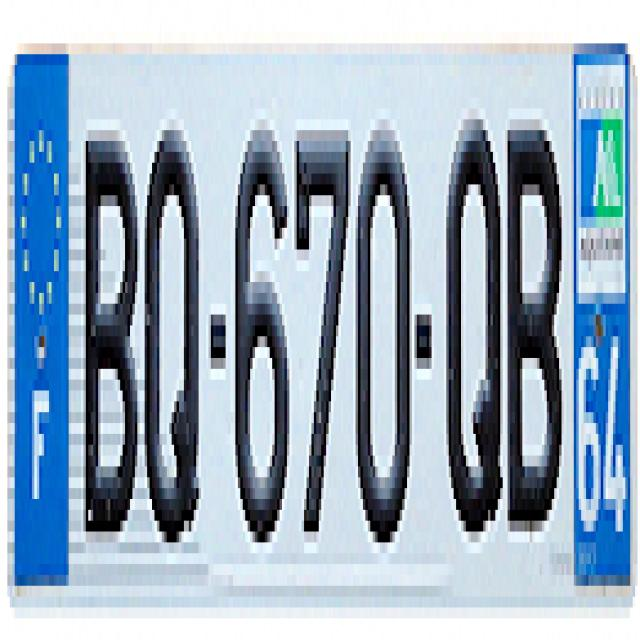EU: (3, 50, 635, 594)
France: (11, 58, 69, 590)
